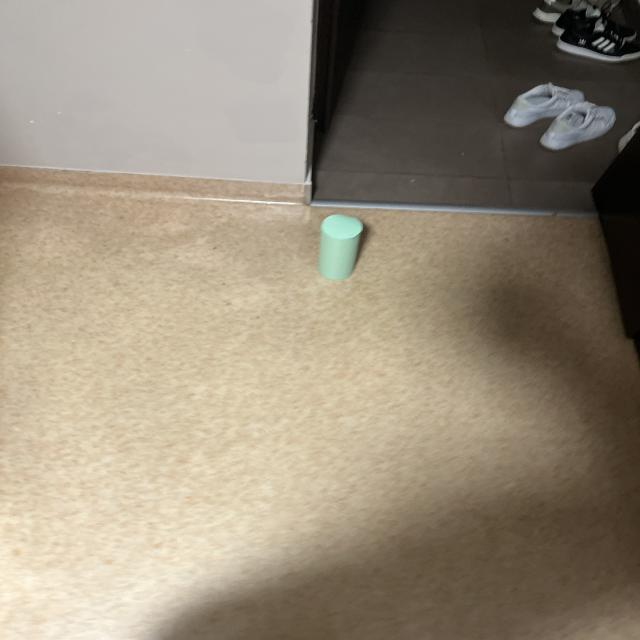meta: (319, 214, 363, 280)
